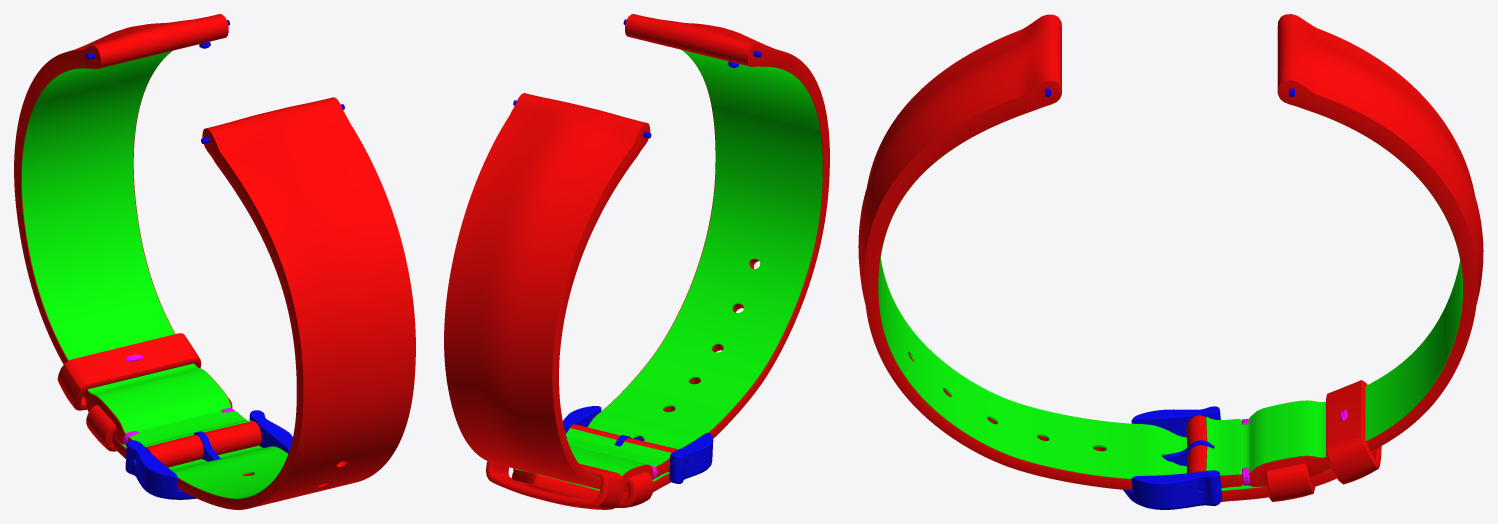
Rendered from Tank_Must_L_Stripes.fbx.
3 renders of one model, left to right at view 1: azimuth 30°, elevation 25°; view 2: azimuth 150°, elevation 25°; view 3: azimuth 270°, elevation 25°, orthographic. The views are drawn at different scales.
Parts seen in each view (by area): view 1: Tank_Must_L_Stripes; view 2: Tank_Must_L_Stripes; view 3: Tank_Must_L_Stripes.
Boxes of the visible parts, left/top/right/bottom form: Tank_Must_L_Stripes: left=14, top=14, right=415, bottom=509; Tank_Must_L_Stripes: left=444, top=14, right=829, bottom=509; Tank_Must_L_Stripes: left=858, top=14, right=1483, bottom=509.
Size of the model in its own units: 2.1 by 5.74 by 7.48.
